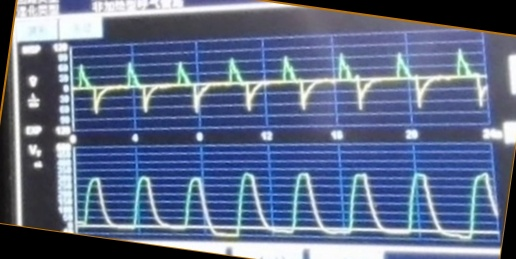Accumulation Flow: (75, 47, 488, 117)
Volume: (79, 168, 496, 241)
